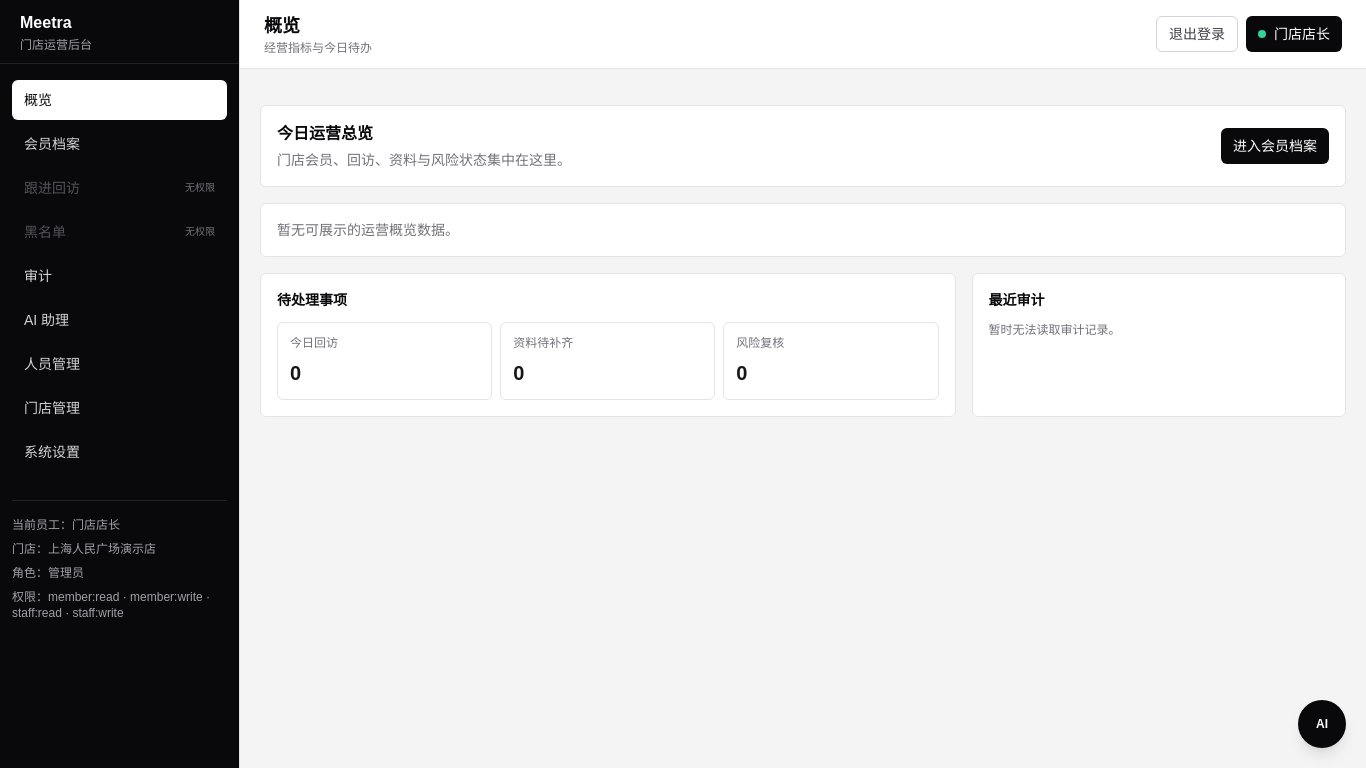
it: 精简 V1 首页验收 › loads staff accounts and creates a staff account from personnel management
The width and height of the screenshot is (1366, 768).
Click the button "人员管理" at [120, 364], box x1=12 y1=344 x2=227 y2=384
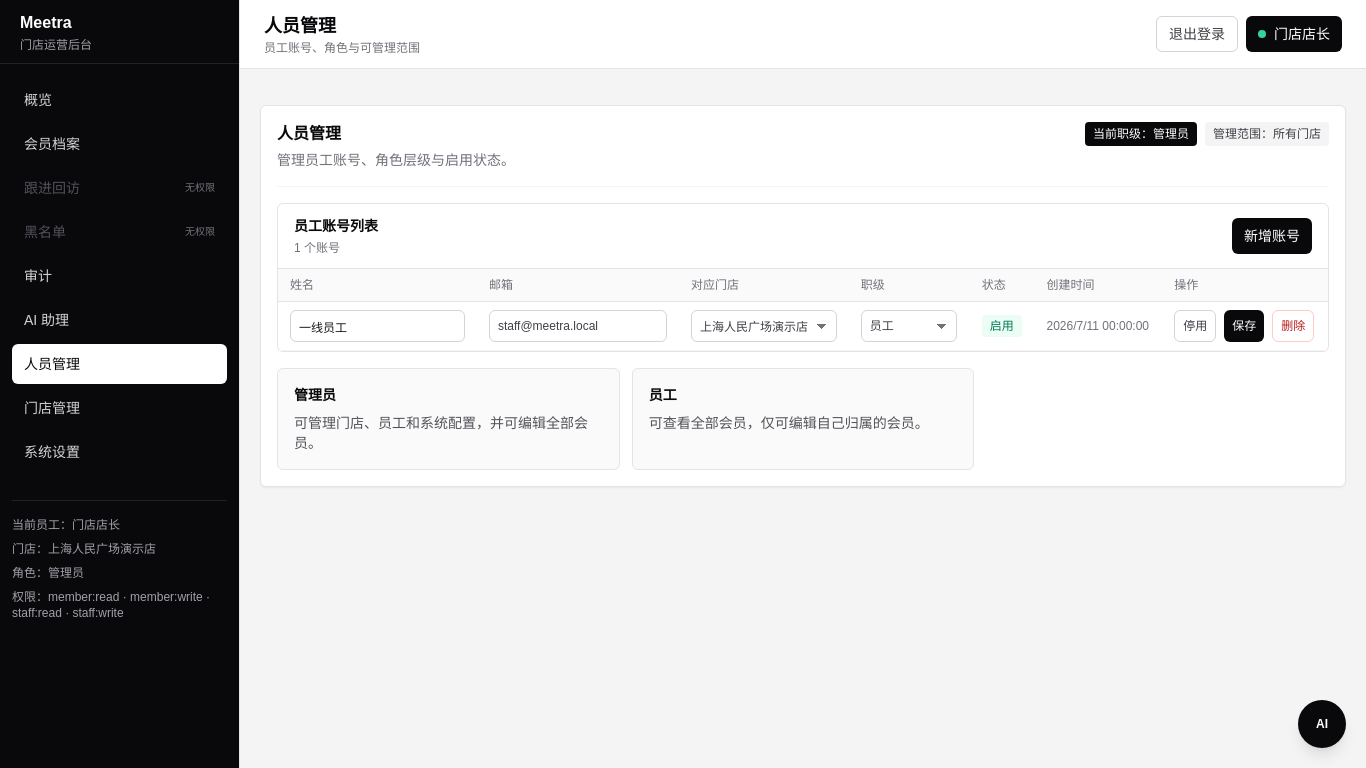
Check: the field showing "一线员工" is shown, box x1=290 y1=310 x2=465 y2=342
Click the button "新增账号" at [1272, 236], box x1=1232 y1=218 x2=1312 y2=254
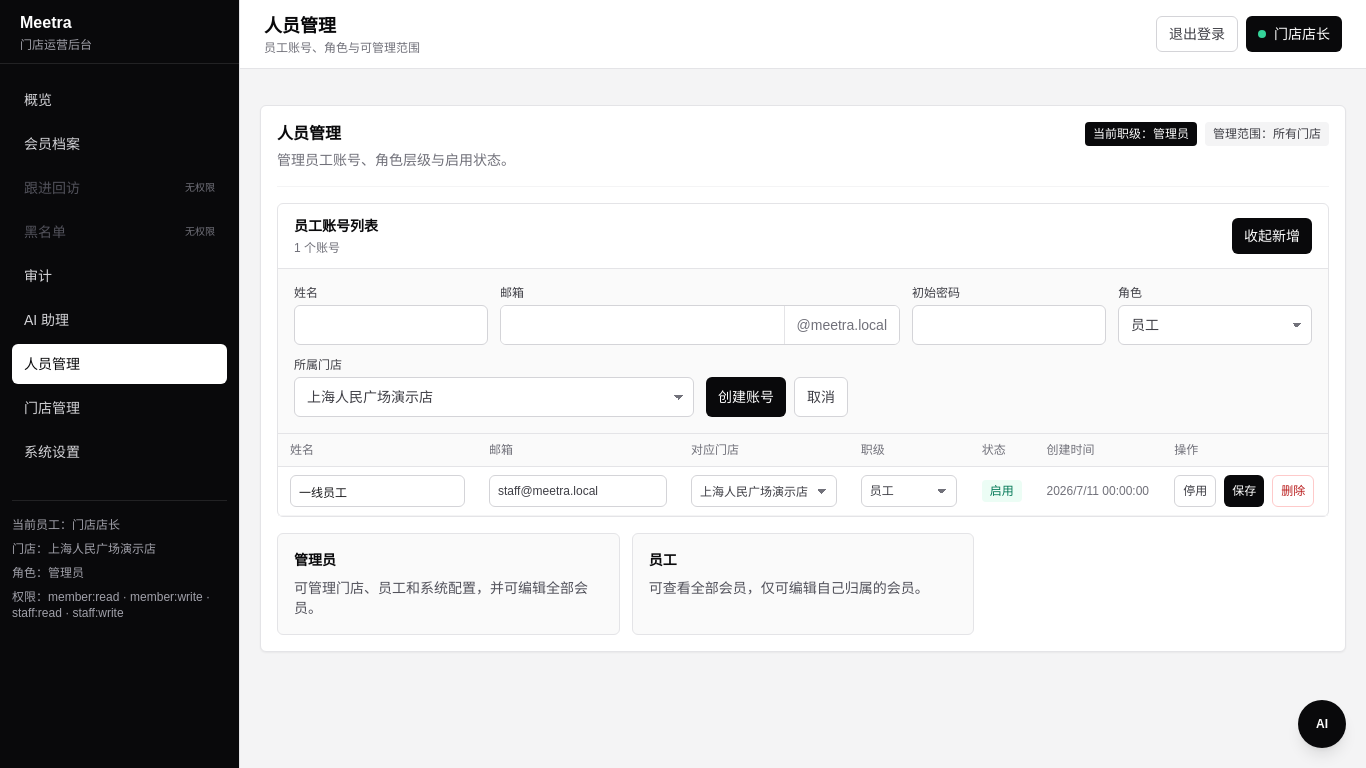
Type "新员工" into the field labelled "姓名" at [391, 325], box x1=294 y1=305 x2=488 y2=345
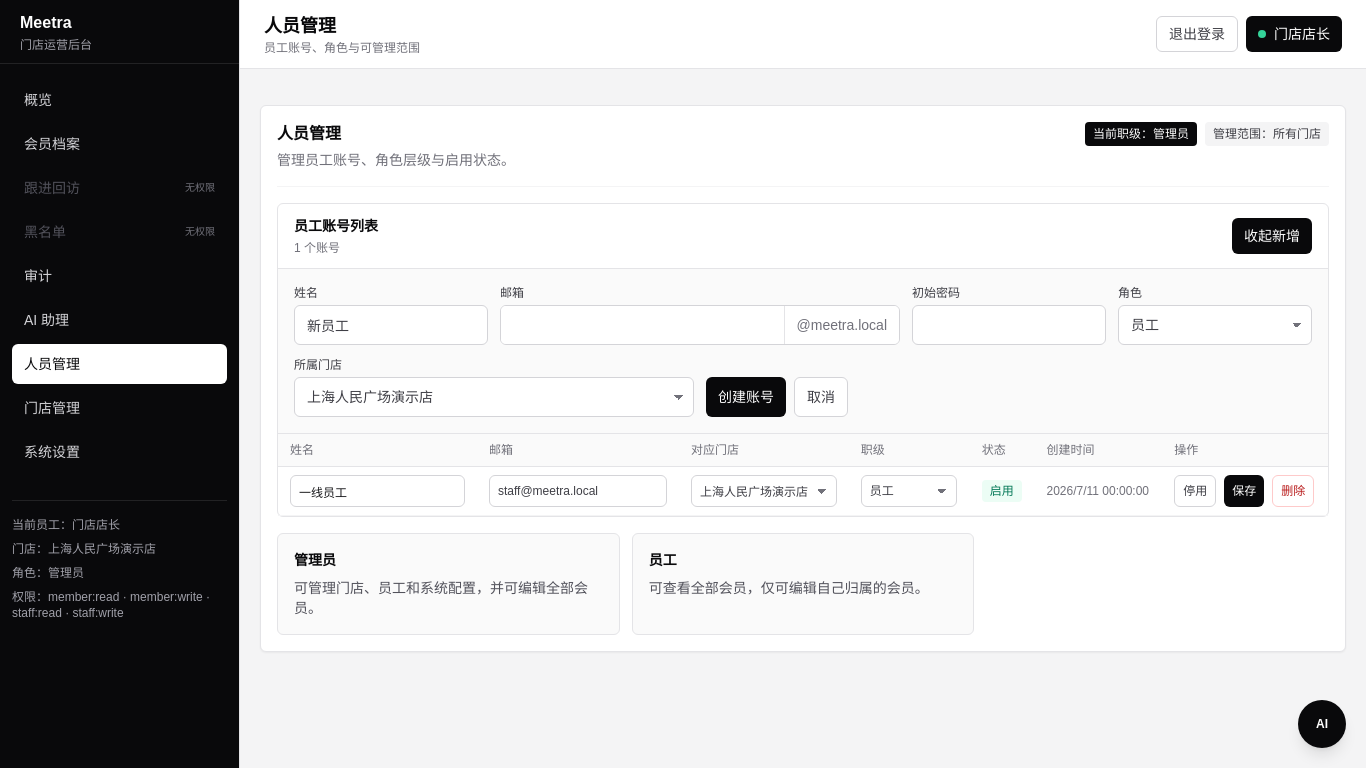
Type "new-staff" into the field labelled "邮箱" at [642, 325], box x1=501 y1=306 x2=784 y2=344
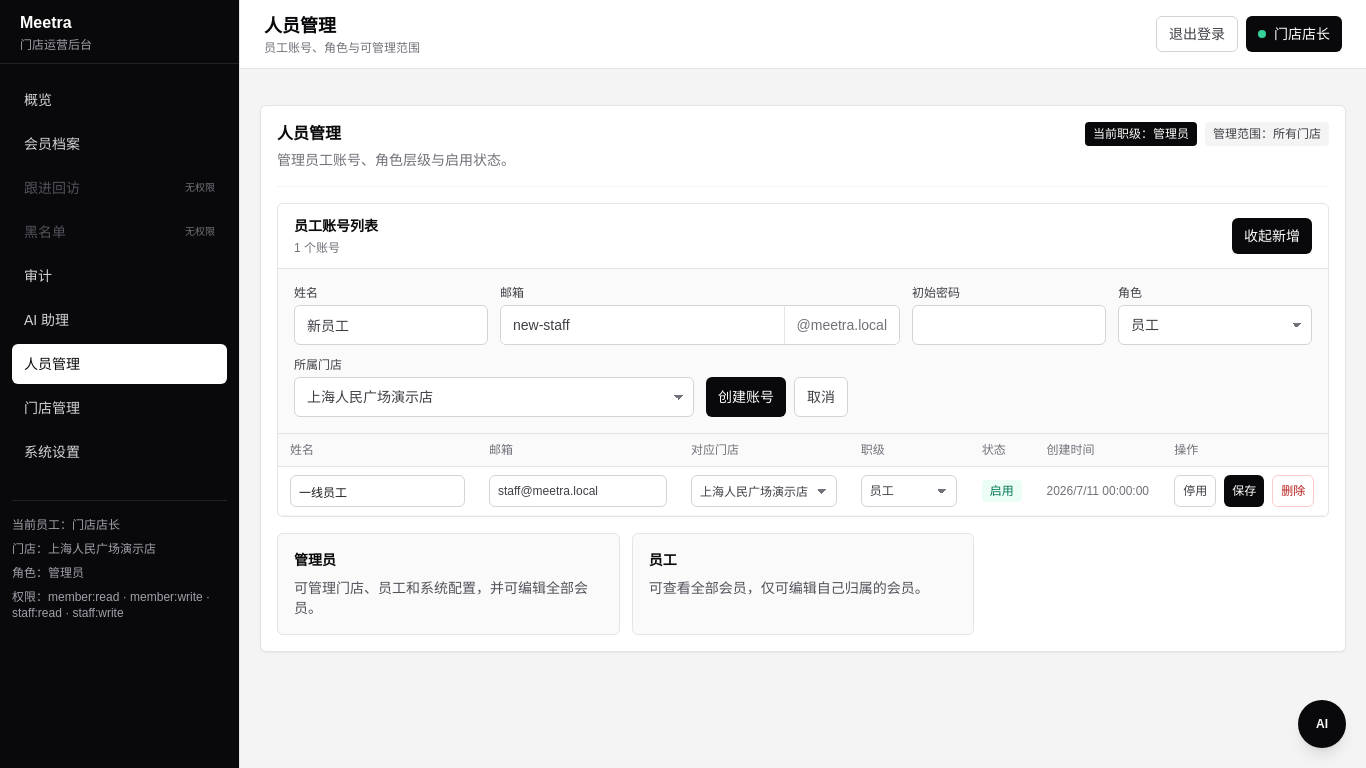
Type "Demo@123456" into the password field labelled "初始密码" at [1009, 325], box x1=912 y1=305 x2=1106 y2=345
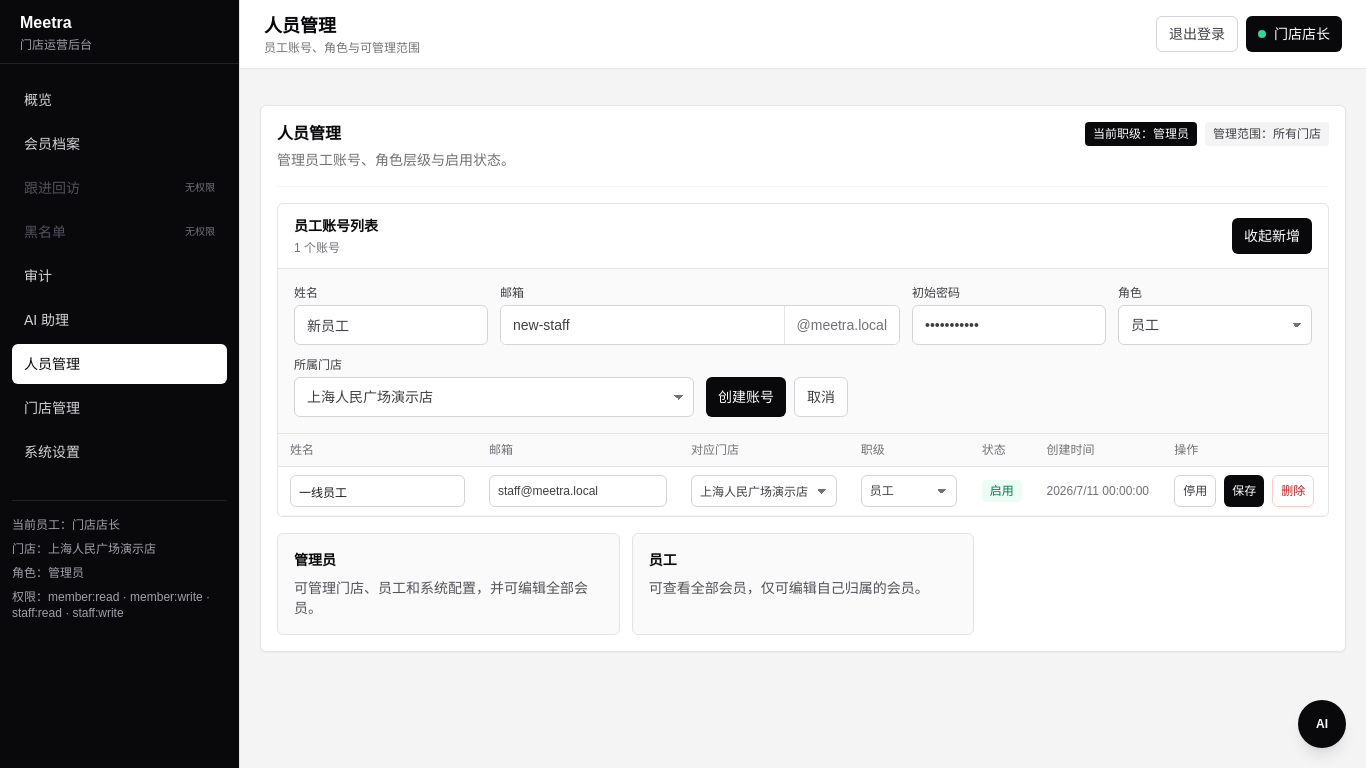
Click the button "创建账号" at [746, 397], box x1=706 y1=377 x2=786 y2=417
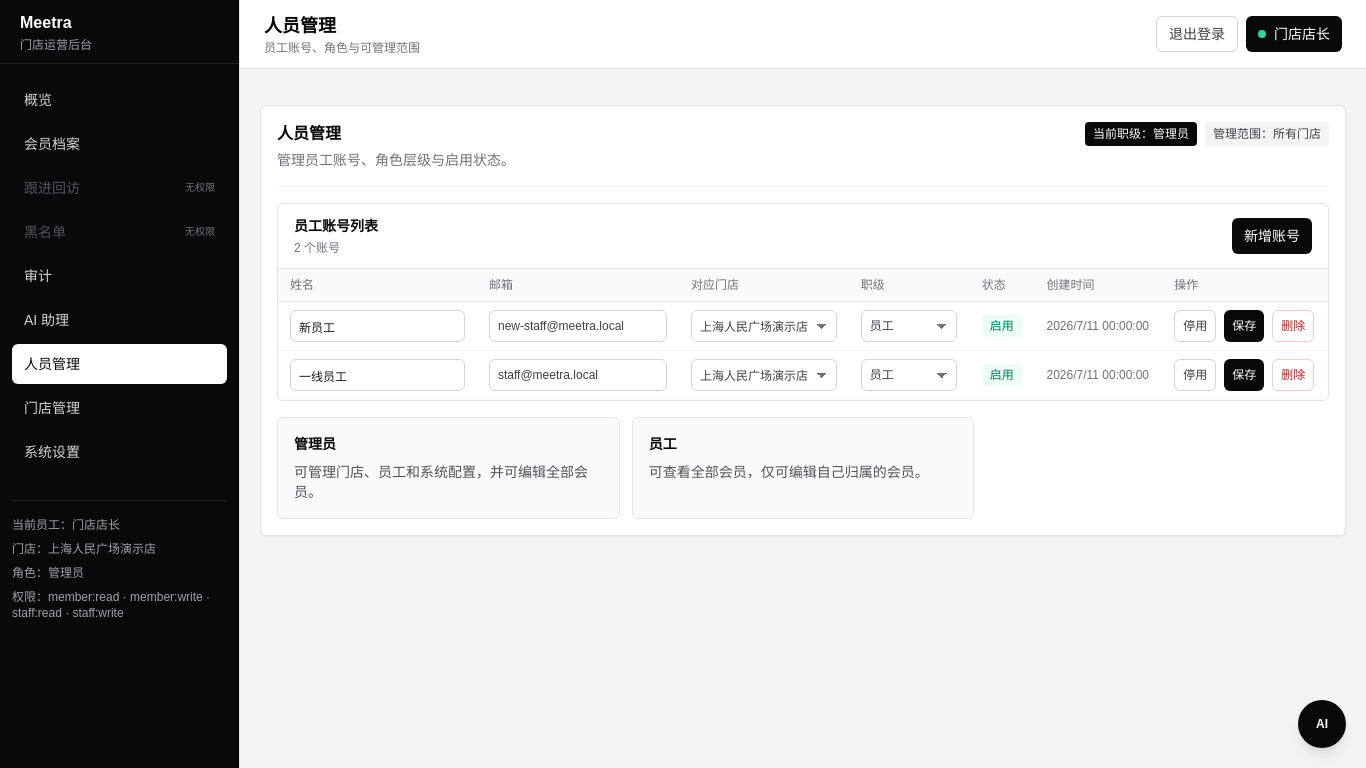
Check: the field showing "new-staff@meetra.local" is shown, box x1=489 y1=310 x2=667 y2=342
